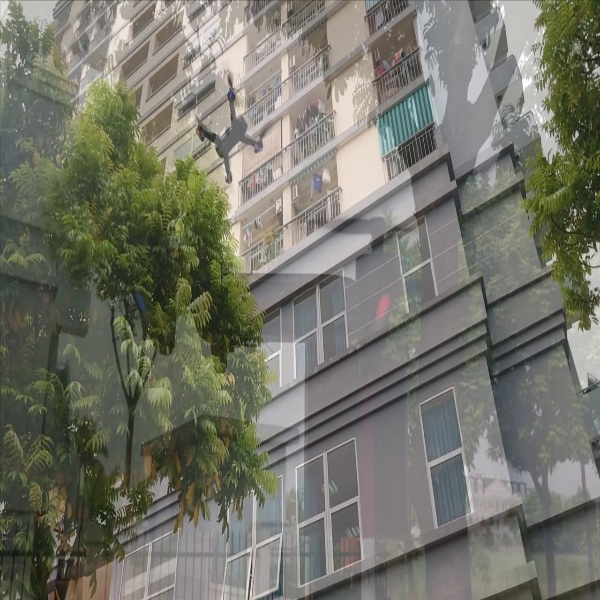drone: (184, 75, 279, 187)
